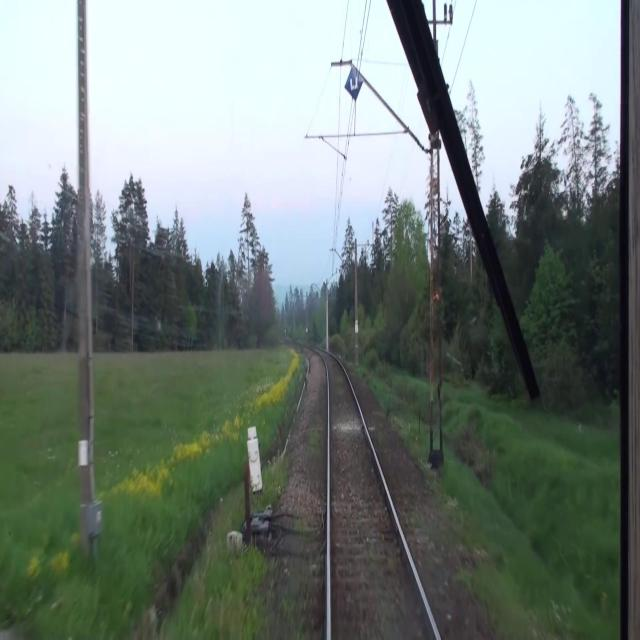rail-track: (323, 353, 435, 639)
